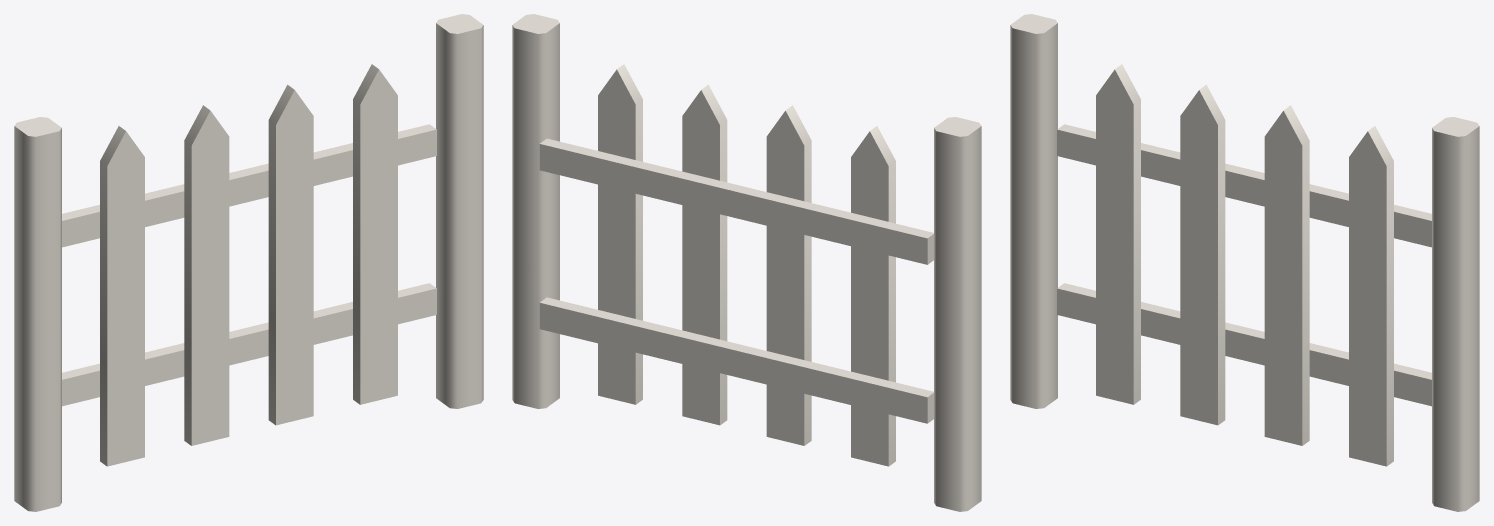
The model's file is garden_fence_1m.glb.
3 renders of one model, left to right at view 1: azimuth 30°, elevation 25°; view 2: azimuth 150°, elevation 25°; view 3: azimuth 330°, elevation 25°, orthographic.
Parts seen in each view (by area): view 1: garden_fence_1m; view 2: garden_fence_1m; view 3: garden_fence_1m.
Boxes of the visible parts, x1,y1,x2,y2 form: garden_fence_1m: (14,14,483,511); garden_fence_1m: (512,14,981,511); garden_fence_1m: (1010,14,1479,511).
Bounding box in the file's own units: 1.08 × 0.85 × 0.095.
1 material, 1 textured.
